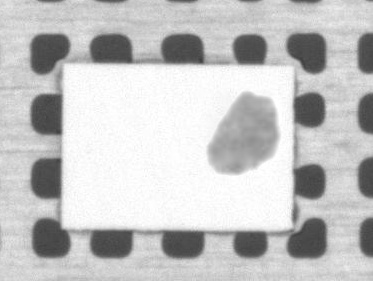DIE_INK: (207, 93, 281, 174)
